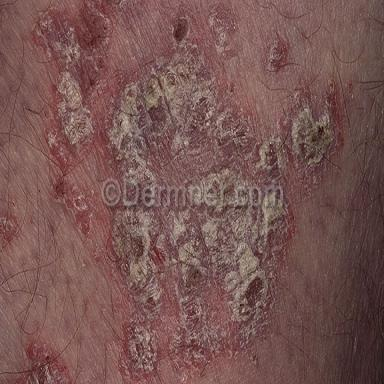Psoriasis: (33, 0, 341, 240), (108, 206, 297, 379), (17, 343, 71, 384), (263, 29, 290, 73), (0, 215, 18, 246)
